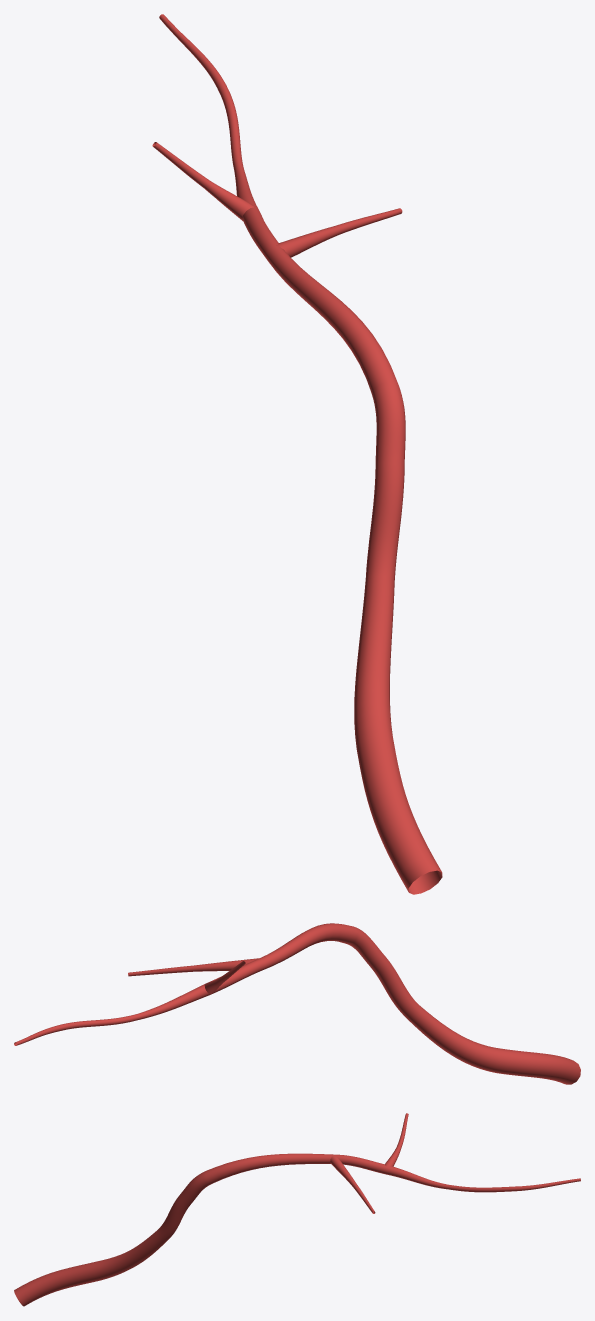
The picture shows the model from 3 angles, top to bottom: view 1: azimuth 30°, elevation 25°; view 2: azimuth 150°, elevation 25°; view 3: azimuth 270°, elevation 25°; orthographic projection. The views are drawn at different scales.
Parts seen in each view (by area): view 1: 左侧臀下动脉; view 2: 左侧臀下动脉; view 3: 左侧臀下动脉.
Boxes of the visible parts, x1,y1,x2,y2 form: 左侧臀下动脉: (152, 14, 442, 894); 左侧臀下动脉: (14, 923, 580, 1084); 左侧臀下动脉: (14, 1113, 580, 1306).
Size of the model in its own units: 0.0604 by 0.0735 by 0.1708.
